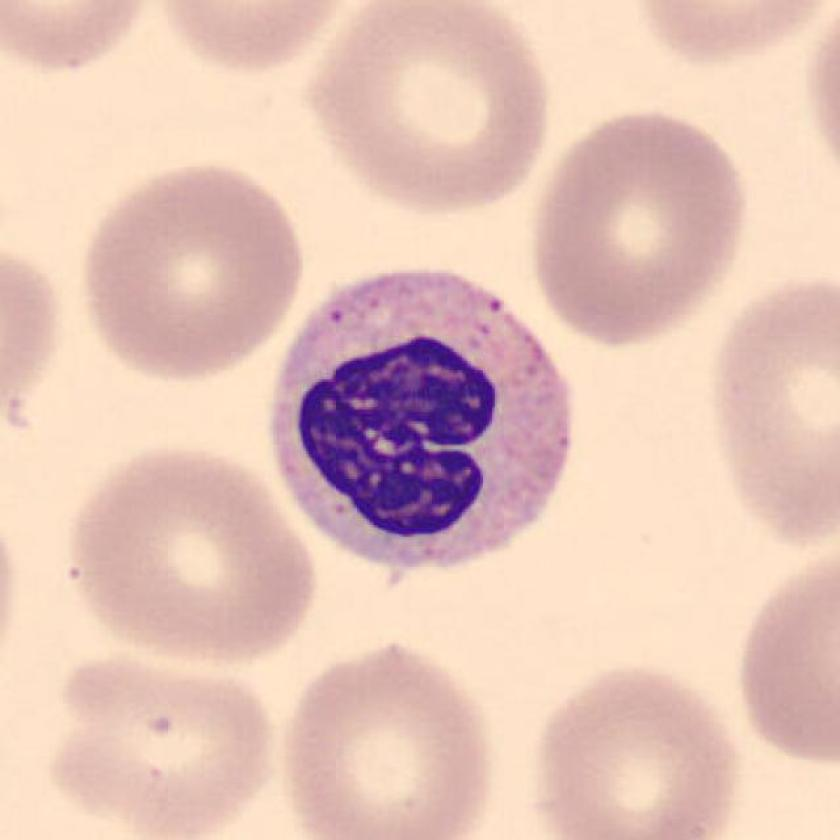neutrophil: (262, 269, 580, 576)
